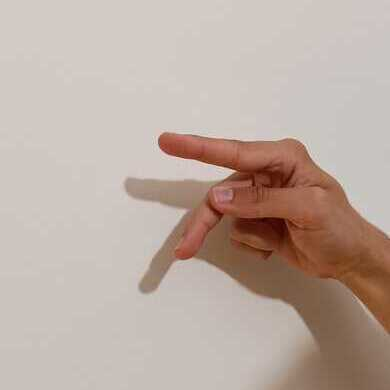P: (157, 131, 355, 283)
